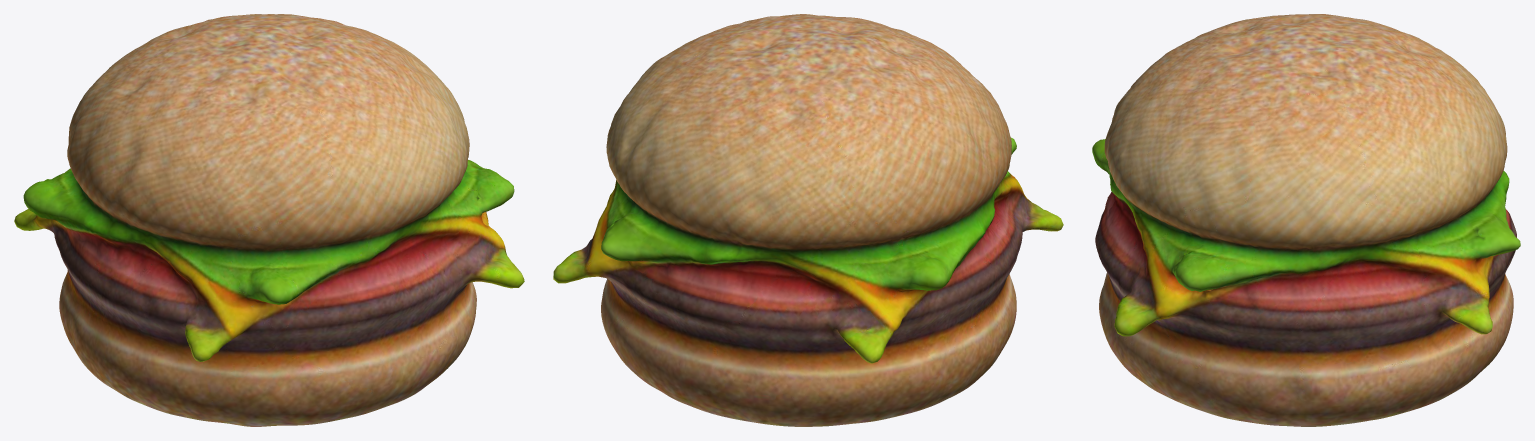
Rendered from card_9.glb.
3 views of the same model, side by side, from view 1: azimuth 30°, elevation 25°; view 2: azimuth 150°, elevation 25°; view 3: azimuth 270°, elevation 25° (orthographic).
Visible parts, largest first — view 1: Mesh1; view 2: Mesh1; view 3: Mesh1.
Part boxes in pixels (x1,y1,x2,y2): Mesh1: (14,14,524,426); Mesh1: (553,14,1063,426); Mesh1: (1092,14,1520,426).
Size of the model in its own units: 1.2 by 0.9982 by 1.18.
Materials: 1 (1 with a texture image).
